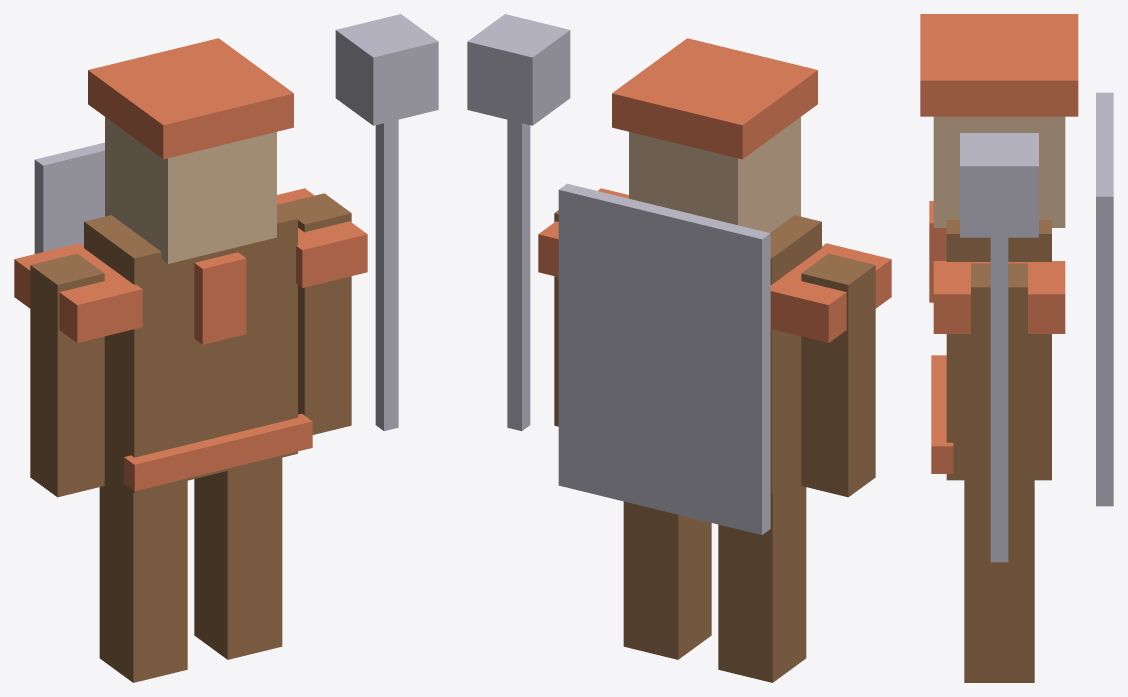
The model's file is 02_eryk_signalborn_courier_near_wreck.glb.
The picture shows the model from 3 angles, left to right: view 1: azimuth 30°, elevation 25°; view 2: azimuth 150°, elevation 25°; view 3: azimuth 270°, elevation 25°; orthographic projection. The views are drawn at different scales.
Visible parts, largest first — view 1: Eryk Signalborn, Courier near Wreck; view 2: Eryk Signalborn, Courier near Wreck; view 3: Eryk Signalborn, Courier near Wreck.
Part boxes in pixels (x1,y1,x2,y2): Eryk Signalborn, Courier near Wreck: (14,14,438,682); Eryk Signalborn, Courier near Wreck: (467,14,891,682); Eryk Signalborn, Courier near Wreck: (920,14,1113,682).
Bounding box in the file's own units: 1.04 × 1.51 × 0.4419.
